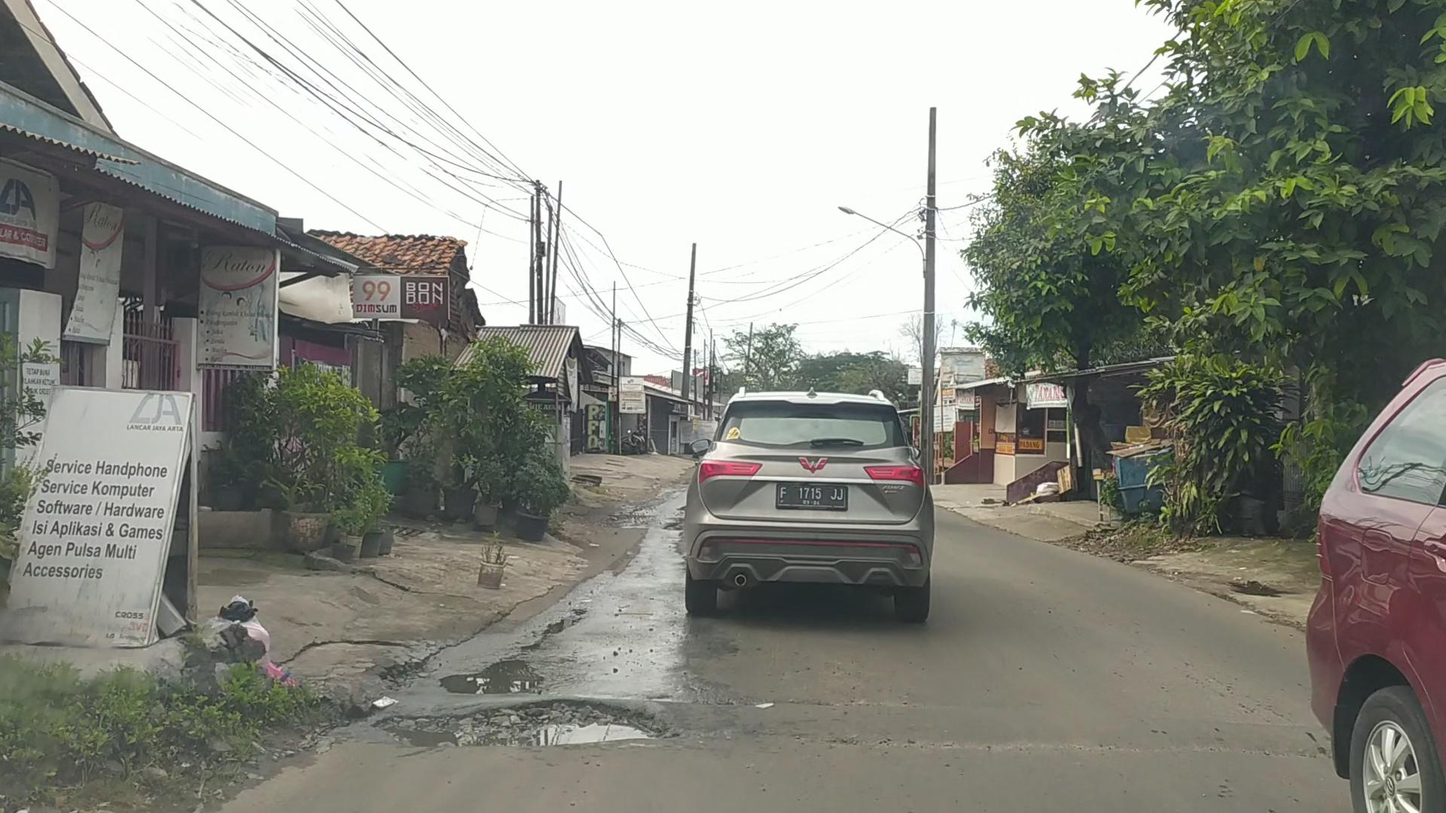pothole: (366, 696, 689, 753)
